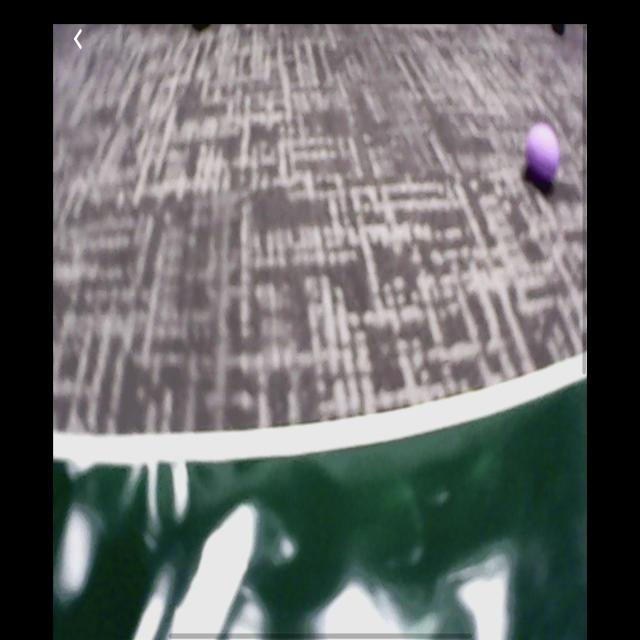ball: (526, 123, 560, 191)
